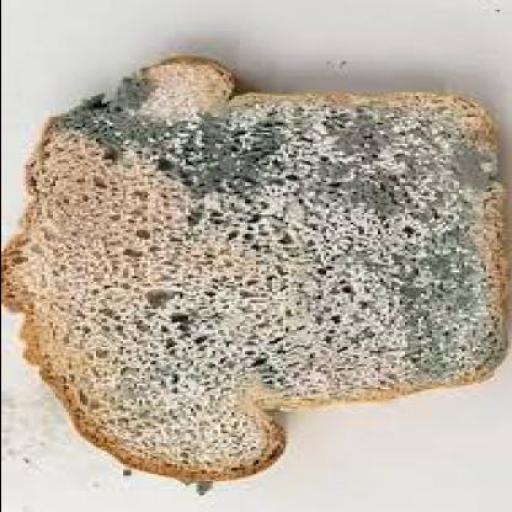biodegradable: (1, 50, 510, 494)
